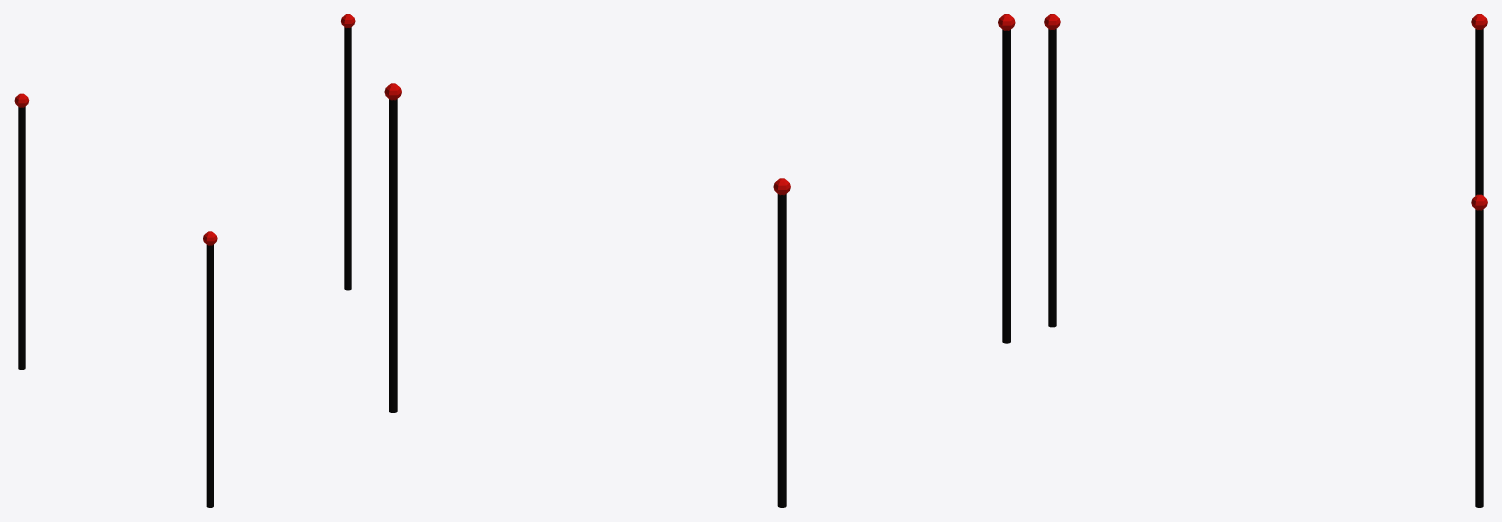
File: 3DProjector_turned_off.dae
3 views of the same model, side by side, from view 1: azimuth 30°, elevation 25°; view 2: azimuth 150°, elevation 25°; view 3: azimuth 270°, elevation 25° (orthographic). The views are drawn at different scales.
Visible parts, largest first — view 1: OxAxisProj_003, OxAxisProj_001, OxAxisProj_004; view 2: OxAxisProj_003, OxAxisProj_001, OxAxisProj_004; view 3: OxAxisProj_001, OxAxisProj_004, OxAxisProj_003.
Boxes of the visible parts, x1=… form: OxAxisProj_003: x1=18, y1=106, x2=25, y2=369; OxAxisProj_001: x1=206, y1=244, x2=213, y2=507; OxAxisProj_004: x1=344, y1=27, x2=351, y2=290; OxAxisProj_003: x1=777, y1=194, x2=786, y2=507; OxAxisProj_001: x1=1002, y1=29, x2=1010, y2=343; OxAxisProj_004: x1=389, y1=99, x2=397, y2=412; OxAxisProj_001: x1=1048, y1=29, x2=1056, y2=327; OxAxisProj_004: x1=1475, y1=209, x2=1483, y2=507; OxAxisProj_003: x1=1475, y1=29, x2=1483, y2=195.
Size of the model in its own units: 10.55 by 10.6 by 8.2.
